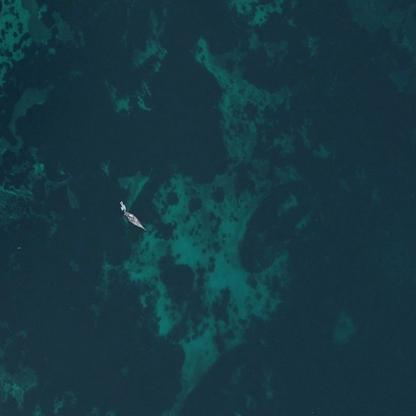ship: (110, 188, 156, 237)
